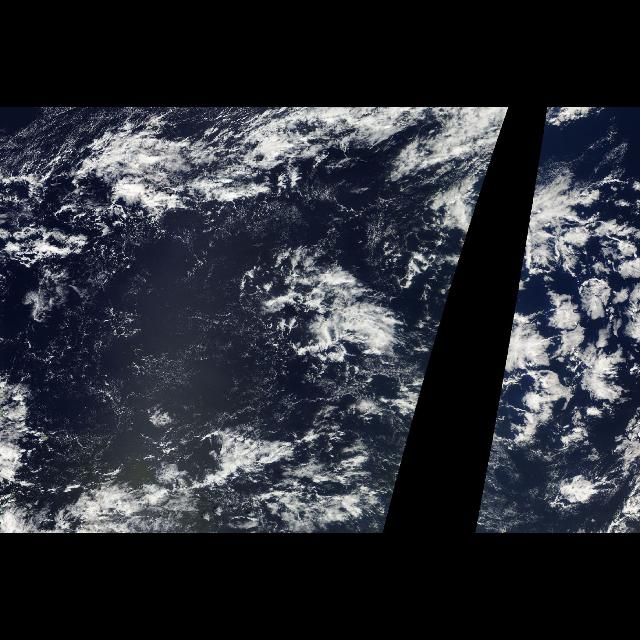Fish: (16, 111, 354, 226)
Flower: (501, 216, 639, 532)
Sugar: (17, 235, 289, 480)
